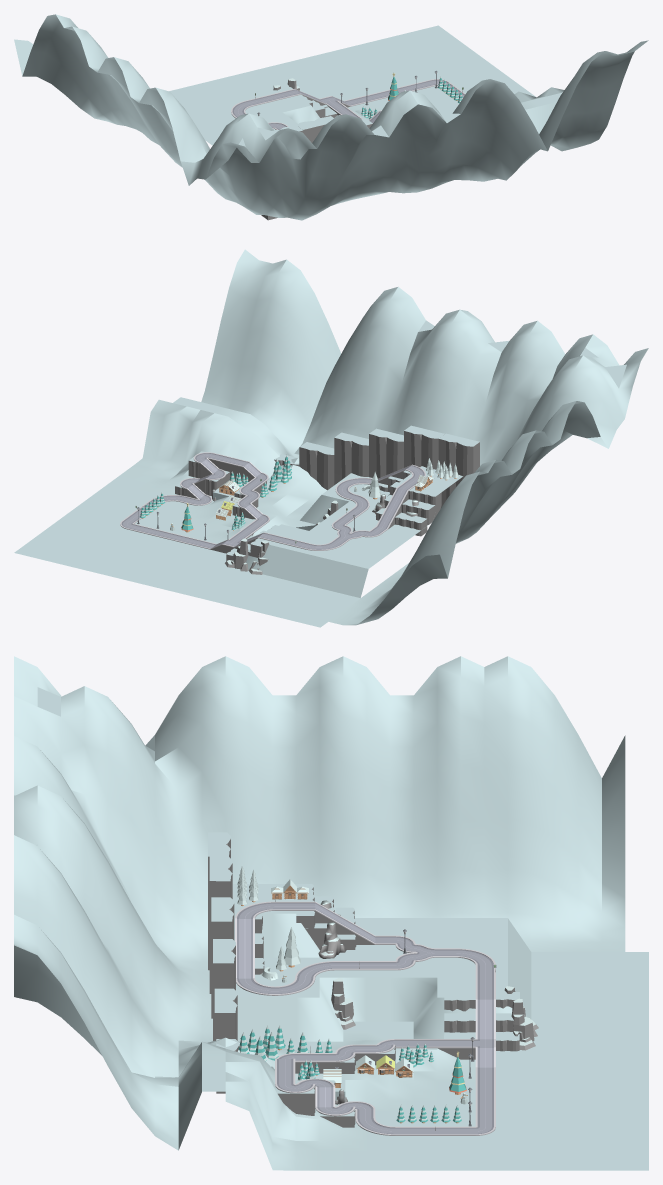
Rendered from Map_Winter.fbx.
3 views of the same model, one above another, from view 1: azimuth 30°, elevation 25°; view 2: azimuth 150°, elevation 25°; view 3: azimuth 270°, elevation 25° (orthographic). The views are drawn at different scales.
Visible parts, largest first — view 1: BackGround, Road, Rock, Rock3; view 2: BackGround, Road, Rock, Rock2, Rock3, Rock4, Tree1, Tree2; view 3: BackGround, Road, Rock, Rock3, Rock2, Rock4, Tree2, Tree1, House2.
Boxes of the visible parts, x1,y1,x2,y2 form: BackGround: (14, 14, 648, 220); Road: (231, 79, 465, 129); Rock: (261, 116, 372, 220); Rock3: (273, 78, 337, 117); BackGround: (14, 249, 648, 627); Road: (120, 452, 425, 553); Rock: (274, 425, 479, 507); Rock2: (372, 482, 441, 536); Rock3: (225, 500, 338, 574); Rock4: (175, 451, 245, 518); Tree1: (354, 458, 458, 499); Tree2: (260, 455, 291, 497); BackGround: (14, 656, 648, 1170); Road: (235, 901, 495, 1135); Rock: (208, 832, 239, 1093); Rock3: (331, 978, 538, 1051); Rock2: (296, 884, 356, 958); Rock4: (275, 1046, 395, 1127); Tree2: (238, 1025, 332, 1061); Tree1: (237, 866, 300, 982); House2: (323, 1055, 413, 1087).
Bounding box in the file's own units: 1406 × 523 × 1266.
